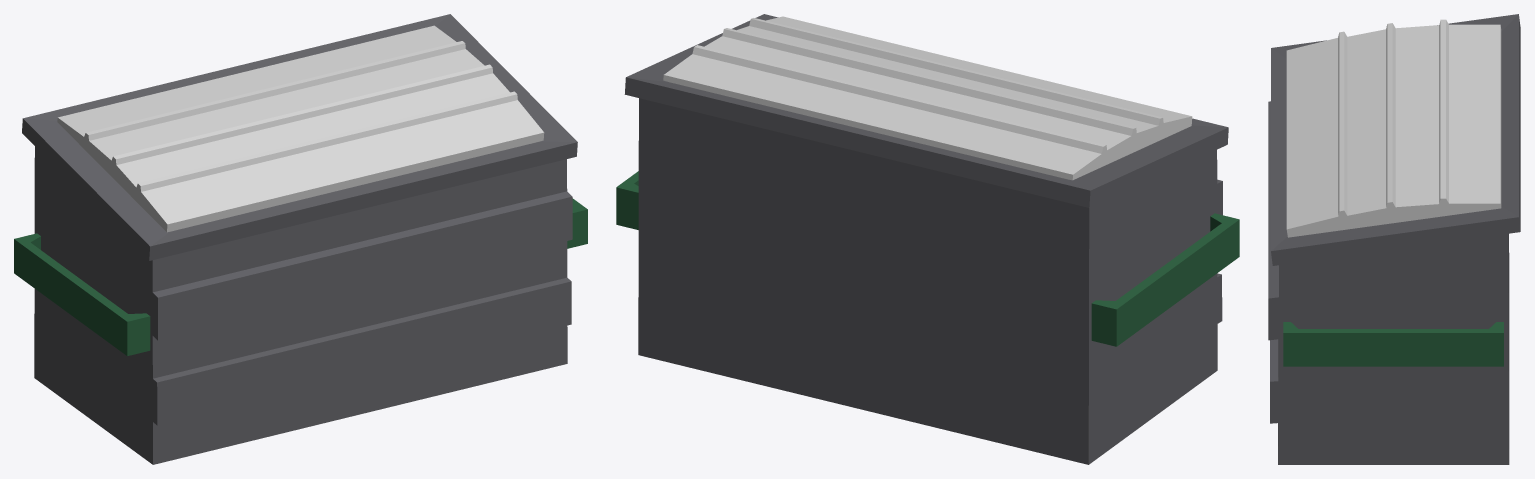
File: BigTrash.fbx
The picture shows the model from 3 angles, left to right: view 1: azimuth 30°, elevation 25°; view 2: azimuth 150°, elevation 25°; view 3: azimuth 270°, elevation 25°; orthographic projection. The views are drawn at different scales.
Visible parts, largest first — view 1: BigTrash, BigTrash_Cover; view 2: BigTrash, BigTrash_Cover; view 3: BigTrash, BigTrash_Cover.
Part boxes in pixels (x1=…): BigTrash: x1=14, y1=14, x2=587, y2=464; BigTrash_Cover: x1=57, y1=25, x2=544, y2=232; BigTrash: x1=616, y1=14, x2=1239, y2=464; BigTrash_Cover: x1=663, y1=16, x2=1192, y2=180; BigTrash: x1=1268, y1=14, x2=1520, y2=464; BigTrash_Cover: x1=1286, y1=19, x2=1501, y2=237.
Bounding box in the file's own units: 255 × 140 × 124.
